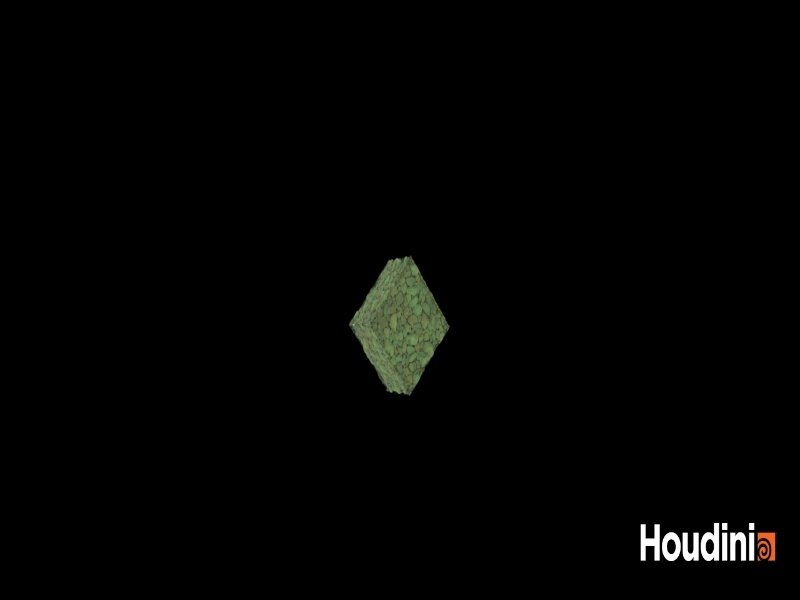waste: (343, 245, 458, 411)
